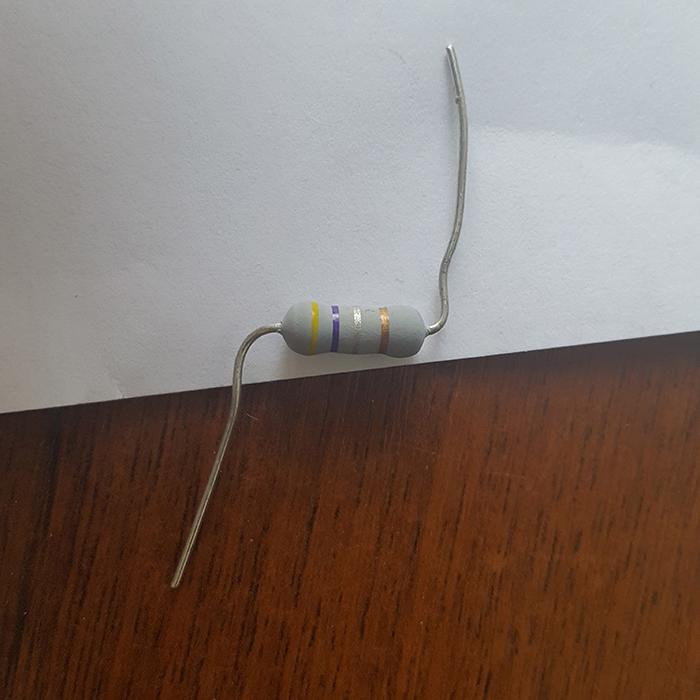resistor: (280, 300, 429, 359)
